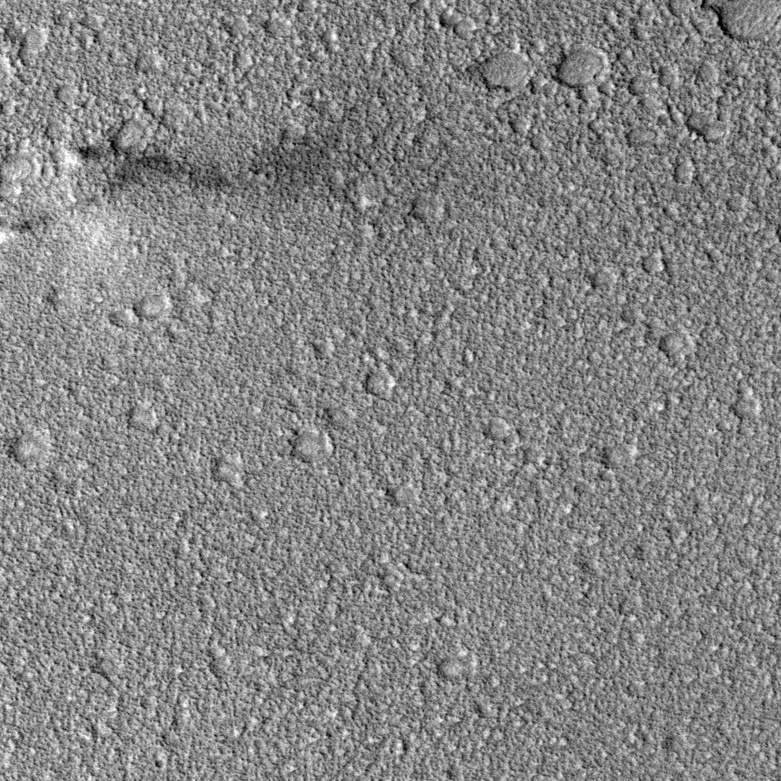dust_devil: (56, 135, 343, 208), (1, 171, 132, 248)
